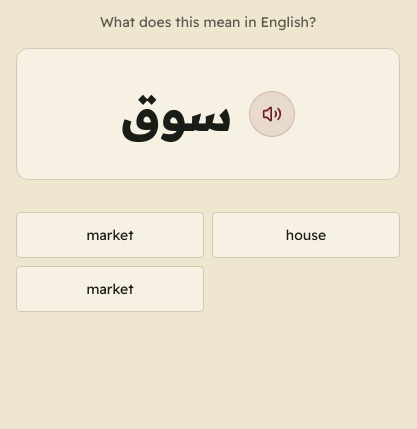
Test case: asking the question › accepts either of two options that mean the same thing
Step 1. Click the 2nd radio button labelled "market" → (110, 289), box x1=16 y1=266 x2=204 y2=312
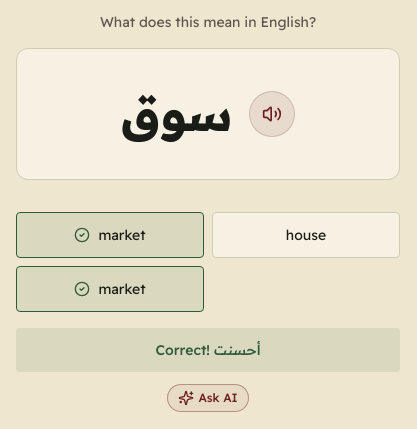
Check: the number of radio buttons labelled "market" is 2, box x1=16 y1=212 x2=204 y2=258; x1=16 y1=266 x2=204 y2=312
Check: the text "Correct! أحسنت" is shown, box x1=16 y1=328 x2=400 y2=372
